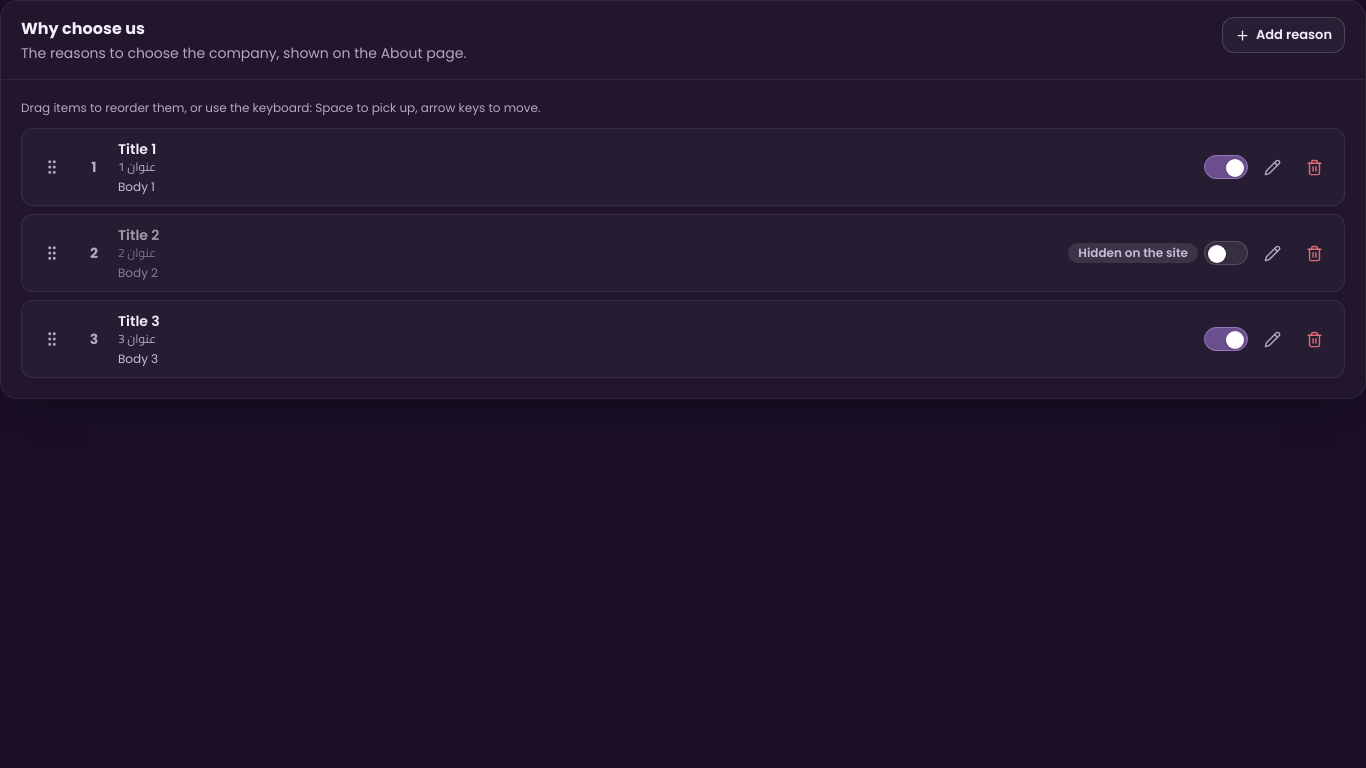
Scenario: CollectionManager — actions › delete › asks first, then deletes and refreshes the list
Expected: the text "Title 2" is shown, [118,225,159,245]
Click the button named "Delete: Title 2" at {"x": 1314, "y": 253}, box [1296,235,1332,271]
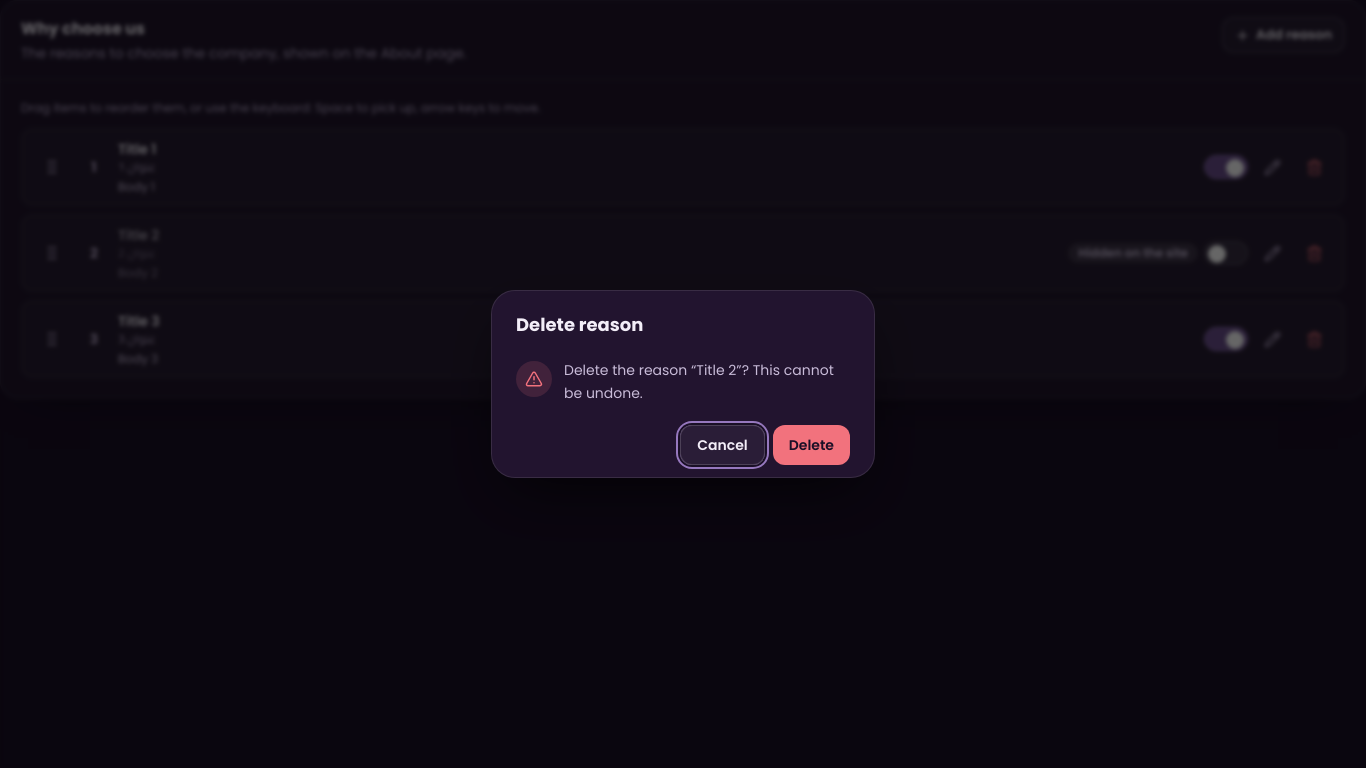
Expected: the dialog "Delete reason" shows "Delete the reason “Title 2”? This cannot be undone.", [564,360,834,403]
Click the button "Delete" at {"x": 811, "y": 445}, box [773,425,850,465]
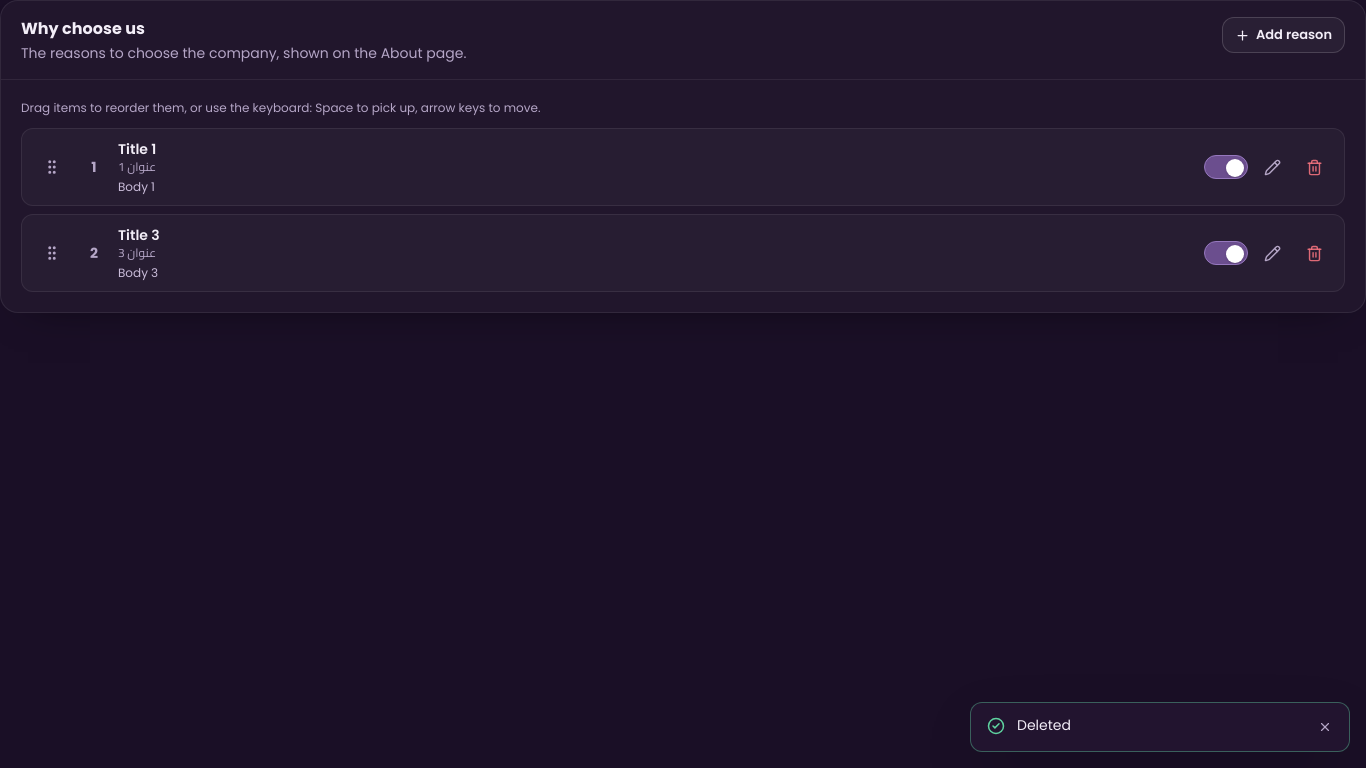
Expected: the text "Title 1" is shown, [118,139,156,159]
Expected: the text "Deleted" is shown, [1017,715,1071,735]
Expected: the text "Title 2" is gone
